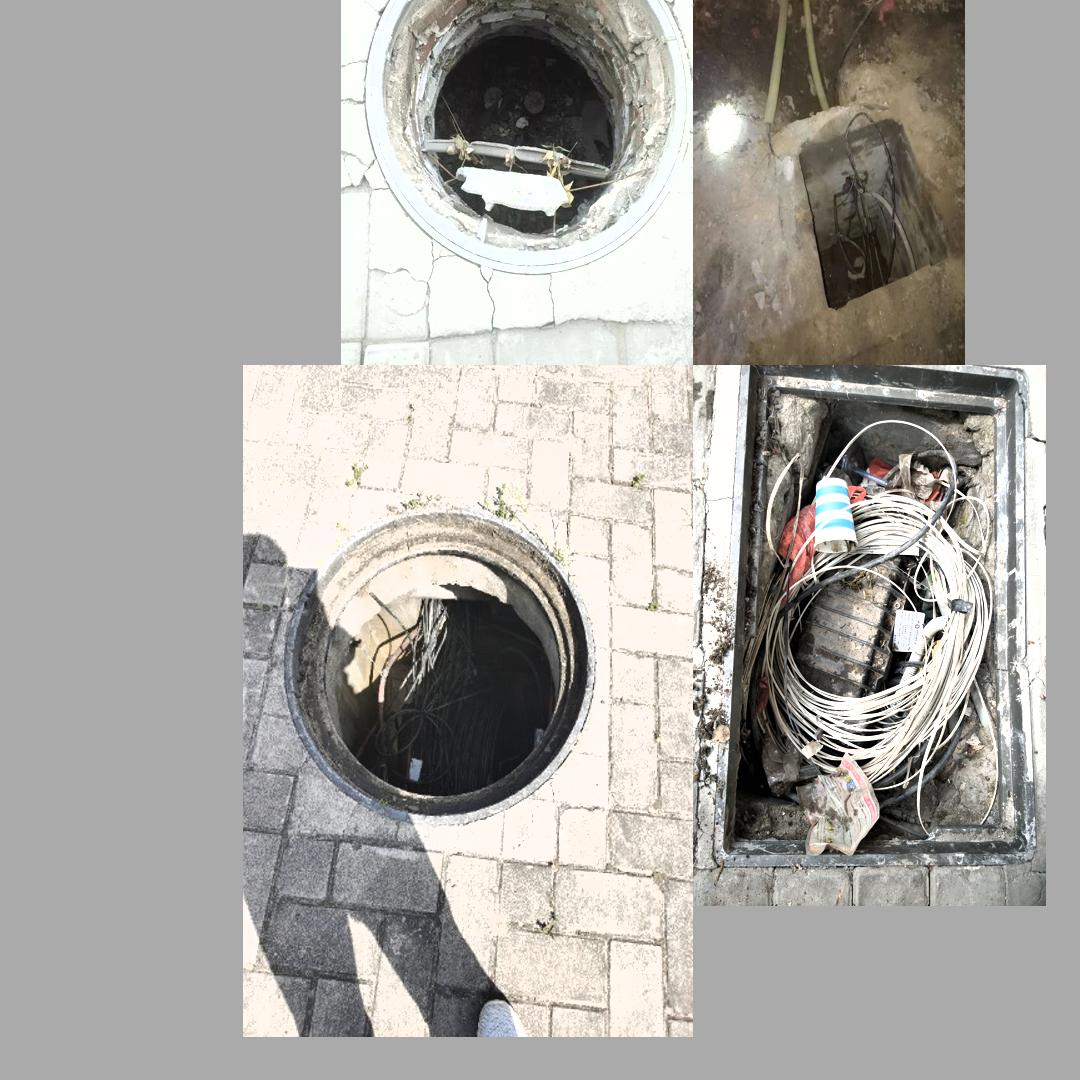lose: (714, 366, 1037, 872), (283, 506, 598, 825), (358, 0, 688, 270), (781, 94, 951, 317)
